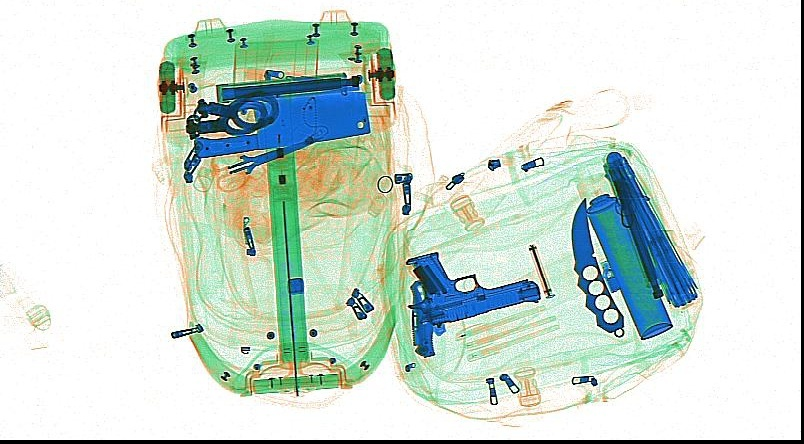handcuffs: (184, 88, 280, 139)
knife: (192, 88, 371, 158), (570, 196, 625, 337), (408, 278, 434, 357), (527, 243, 554, 299)
pressure: (584, 190, 675, 339)
scissors: (208, 137, 320, 193)
